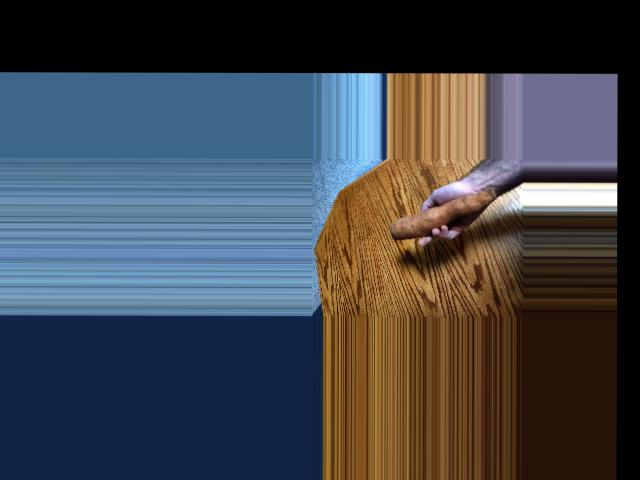sweet_potato: (393, 187, 496, 233)
